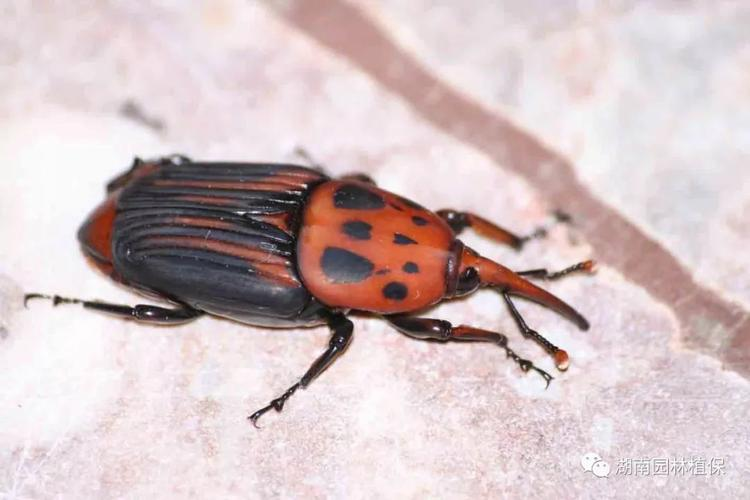Curculionidae: (21, 153, 594, 428)
